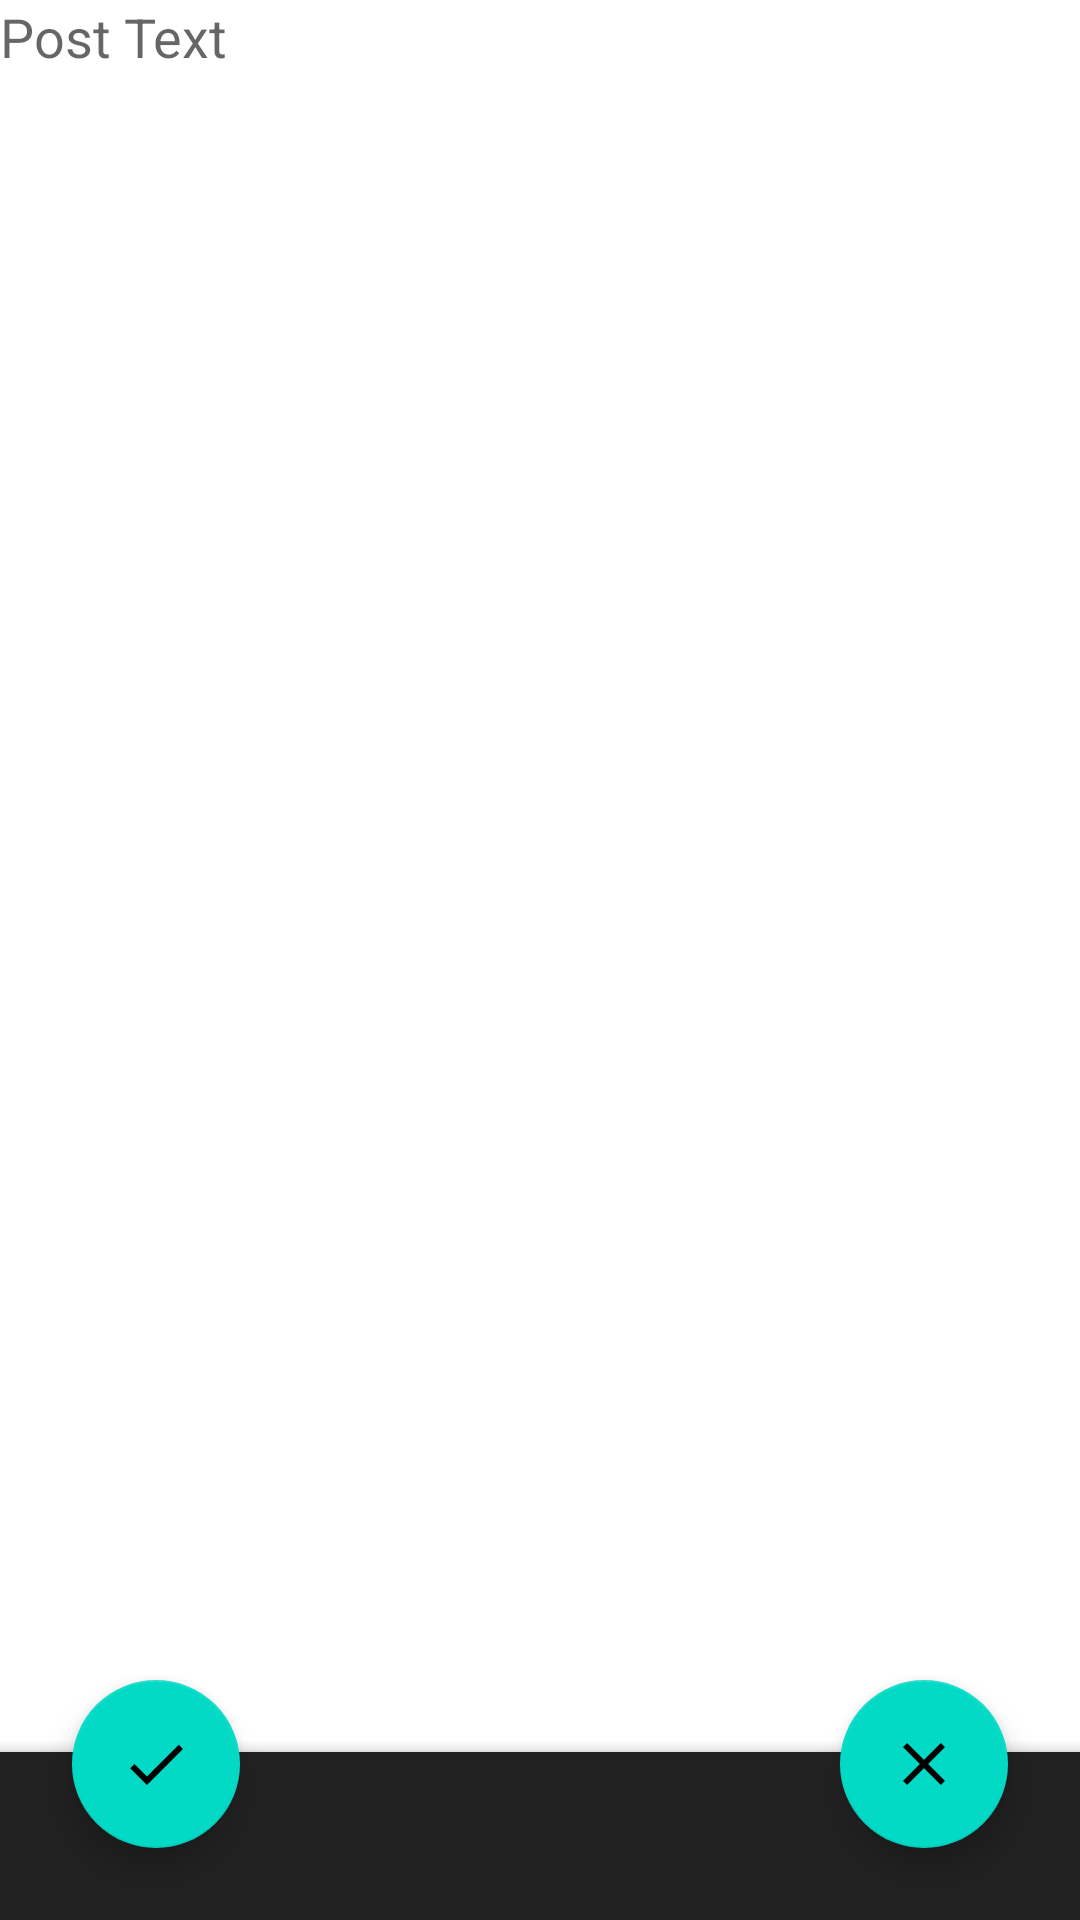

Icons on this 1080 x 1920 Android screen, each with the point to tap as (x=x, y=y):
cancel: (x=924, y=1764)
save: (x=156, y=1764)
